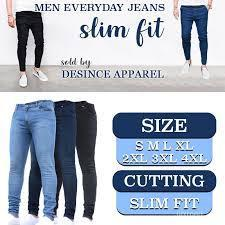pants: (7, 101, 62, 221), (46, 99, 83, 225), (70, 95, 105, 225), (174, 5, 213, 65), (10, 13, 52, 68)
